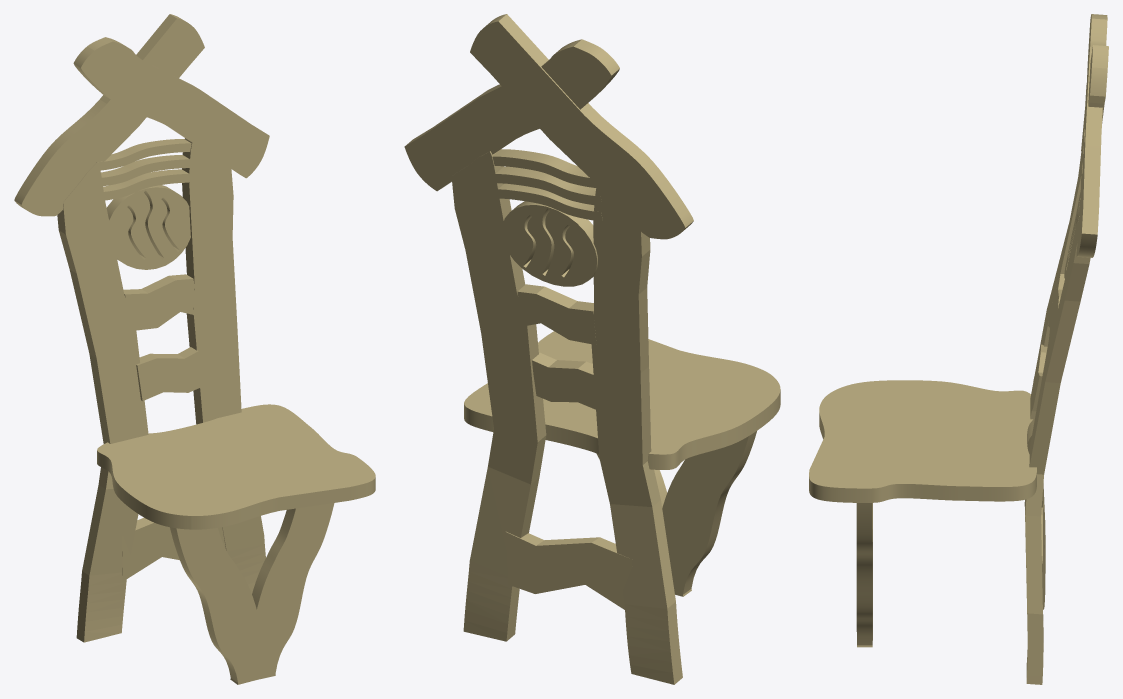
The model's file is Chess Chair.FBX.
3 views of the same model, side by side, from view 1: azimuth 30°, elevation 25°; view 2: azimuth 150°, elevation 25°; view 3: azimuth 270°, elevation 25° (orthographic). The views are drawn at different scales.
Visible parts, largest first — view 1: ____; view 2: ____; view 3: ____.
Part boxes in pixels (<box>): ____: <box>14,14,375,684</box>; ____: <box>404,14,780,684</box>; ____: <box>809,14,1108,684</box>.
Bounding box in the file's own units: 56.3 × 125 × 55.78.
